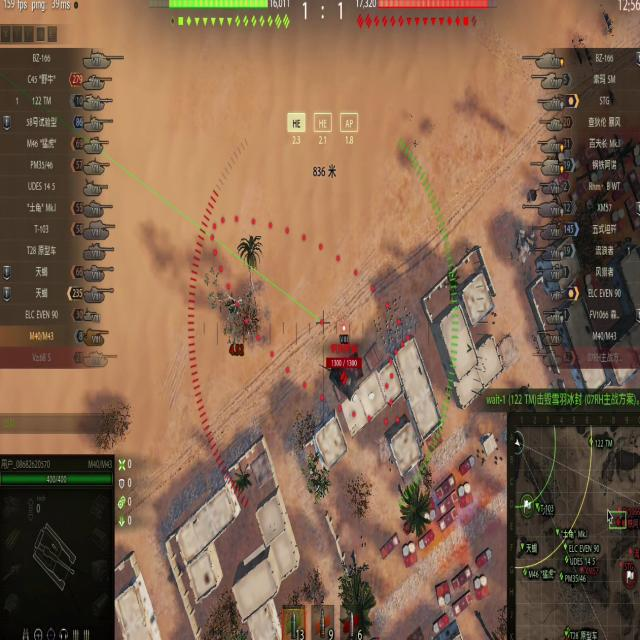tank: (323, 348, 364, 401)
